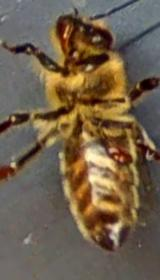varroa_mite: (104, 140, 136, 171)
